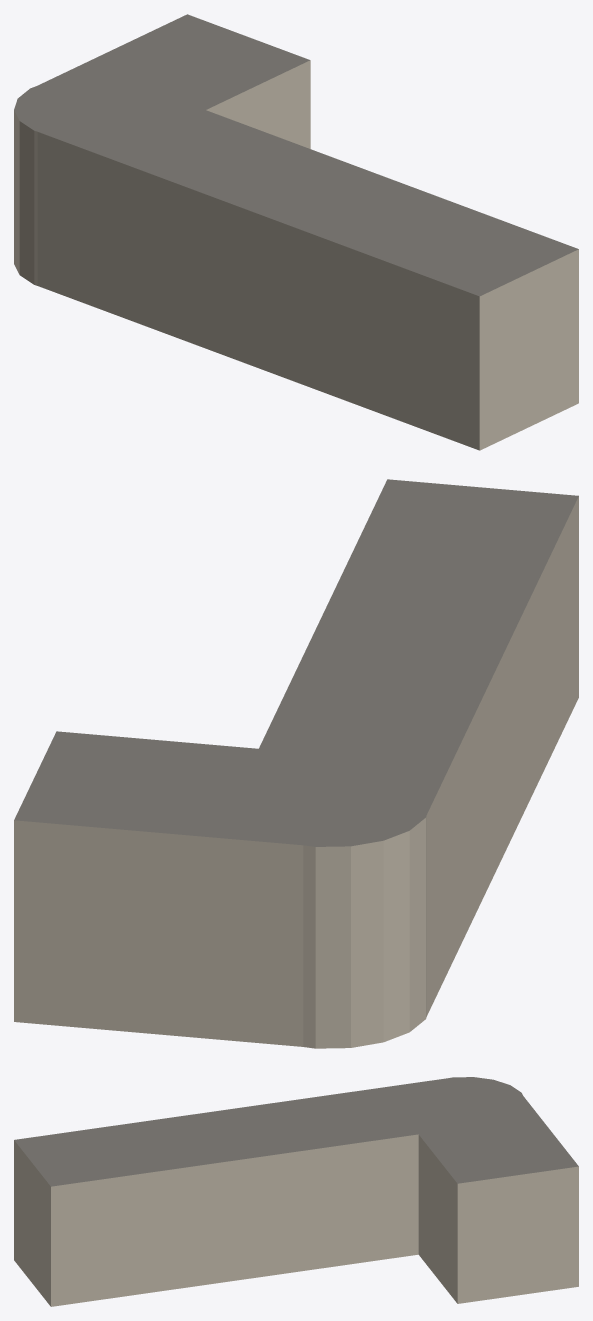
The picture shows the model from 3 angles, top to bottom: view 1: azimuth 30°, elevation 25°; view 2: azimuth 150°, elevation 25°; view 3: azimuth 270°, elevation 25°; orthographic projection. The views are drawn at different scales.
Parts seen in each view (by area): view 1: HP-w859488814; view 2: HP-w859488814; view 3: HP-w859488814.
Part boxes in pixels (x1=…): HP-w859488814: x1=14, y1=14, x2=578, y2=450; HP-w859488814: x1=14, y1=479, x2=578, y2=1048; HP-w859488814: x1=14, y1=1077, x2=578, y2=1306.
Bounding box in the file's own units: 35.2 × 18 × 76.64.
